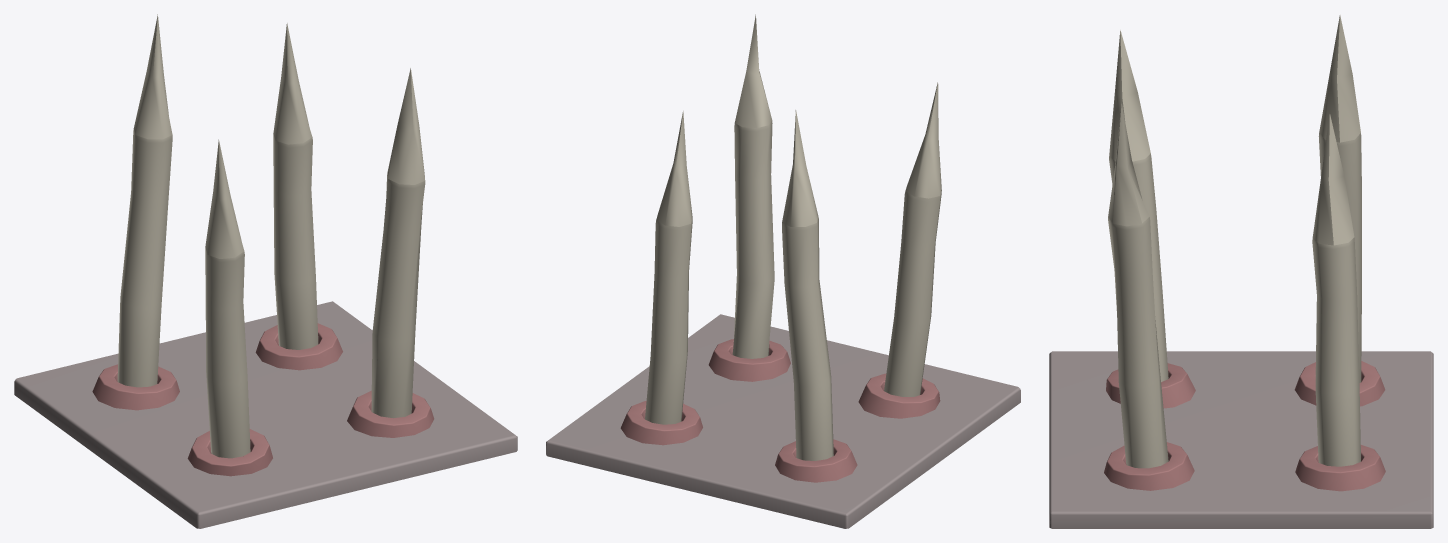
Rendered from SpikeTrap_FloorTile.fbx.
3 views of the same model, side by side, from view 1: azimuth 30°, elevation 25°; view 2: azimuth 150°, elevation 25°; view 3: azimuth 270°, elevation 25° (orthographic). The views are drawn at different scales.
Parts seen in each view (by area): view 1: TrapTile, Spike_03, Spike_01, Spike_02, Spike_04; view 2: TrapTile, Spike_03, Spike_01, Spike_04, Spike_02; view 3: TrapTile, Spike_02, Spike_01, Spike_03, Spike_04.
Part boxes in pixels (x1,y1,x2,y2): TrapTile: (14,301,517,528); Spike_03: (117,14,172,387); Spike_01: (371,68,425,418); Spike_02: (273,23,318,349); Spike_04: (205,139,250,458); TrapTile: (546,314,1020,528); Spike_03: (782,110,833,460); Spike_01: (732,14,774,358); Spike_04: (884,82,941,396); Spike_02: (645,111,692,424); TrapTile: (1049,351,1433,528); Spike_02: (1312,113,1360,466); Spike_01: (1108,103,1168,468); Spike_03: (1318,15,1361,382); Spike_04: (1109,30,1168,381).
Size of the model in its own units: 50 by 57.85 by 50.
